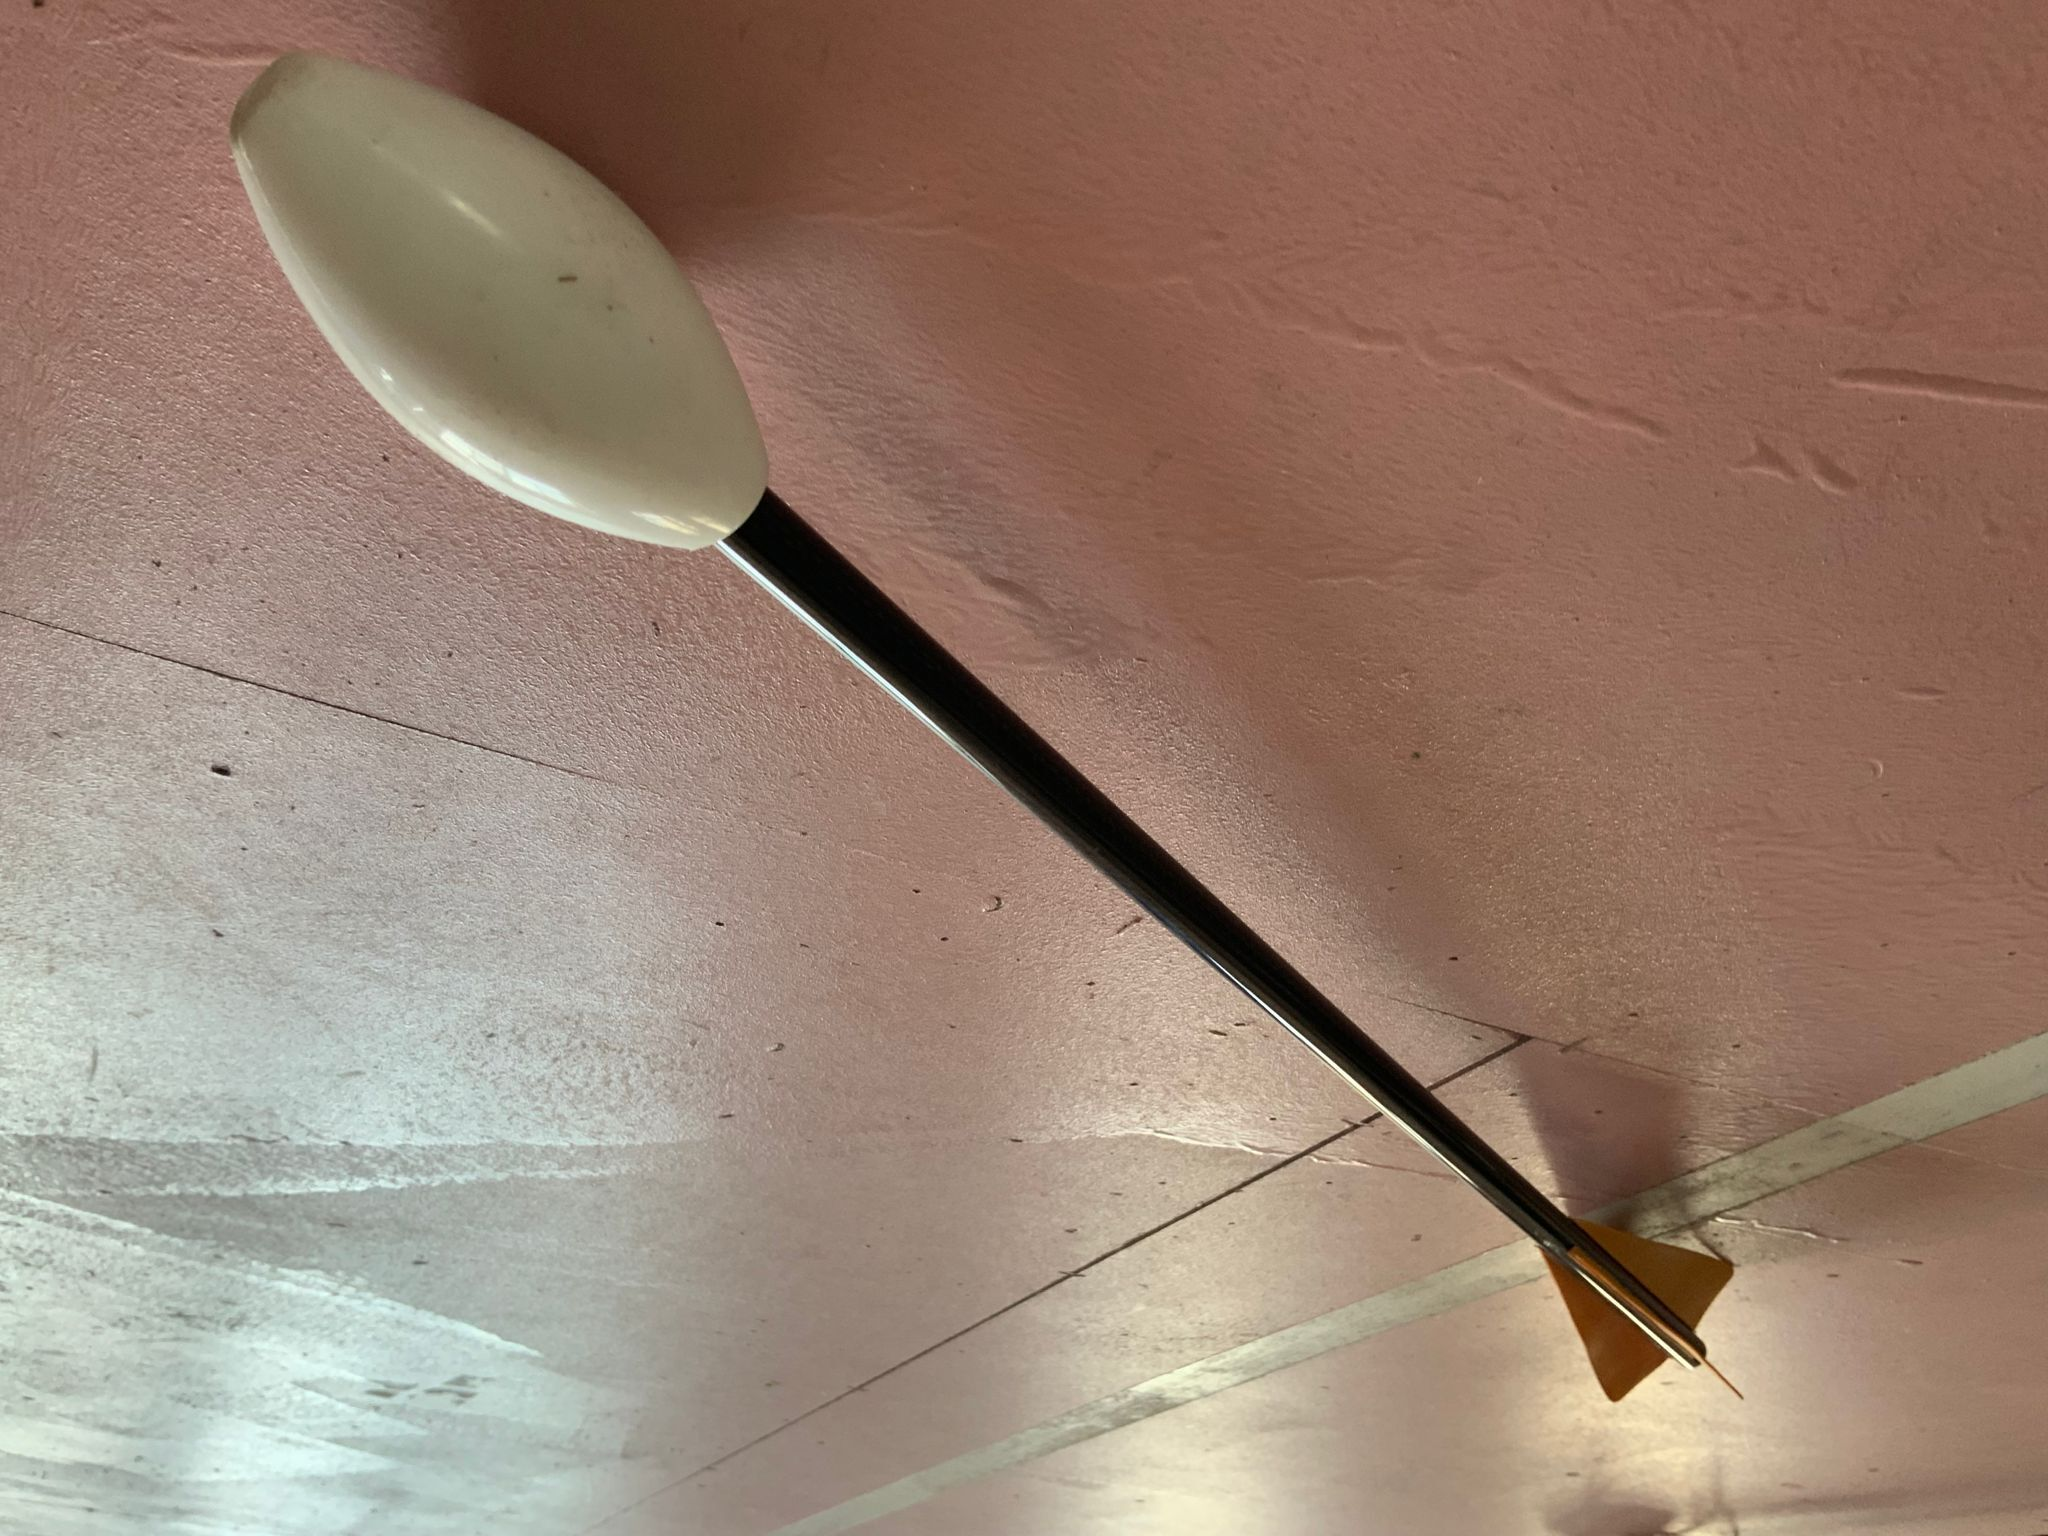arrow: (223, 52, 1740, 1407)
arrowFront: (223, 52, 776, 553)
